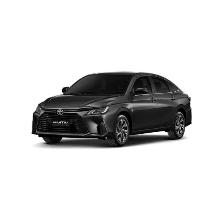NON-EV: (32, 70, 192, 148)
